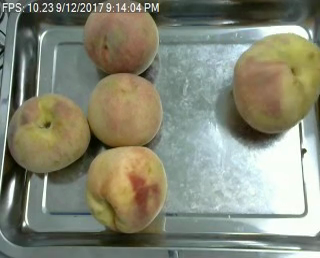Peach: (231, 30, 319, 133), (85, 146, 166, 234), (8, 92, 91, 172), (82, 0, 159, 76), (89, 71, 162, 148)
